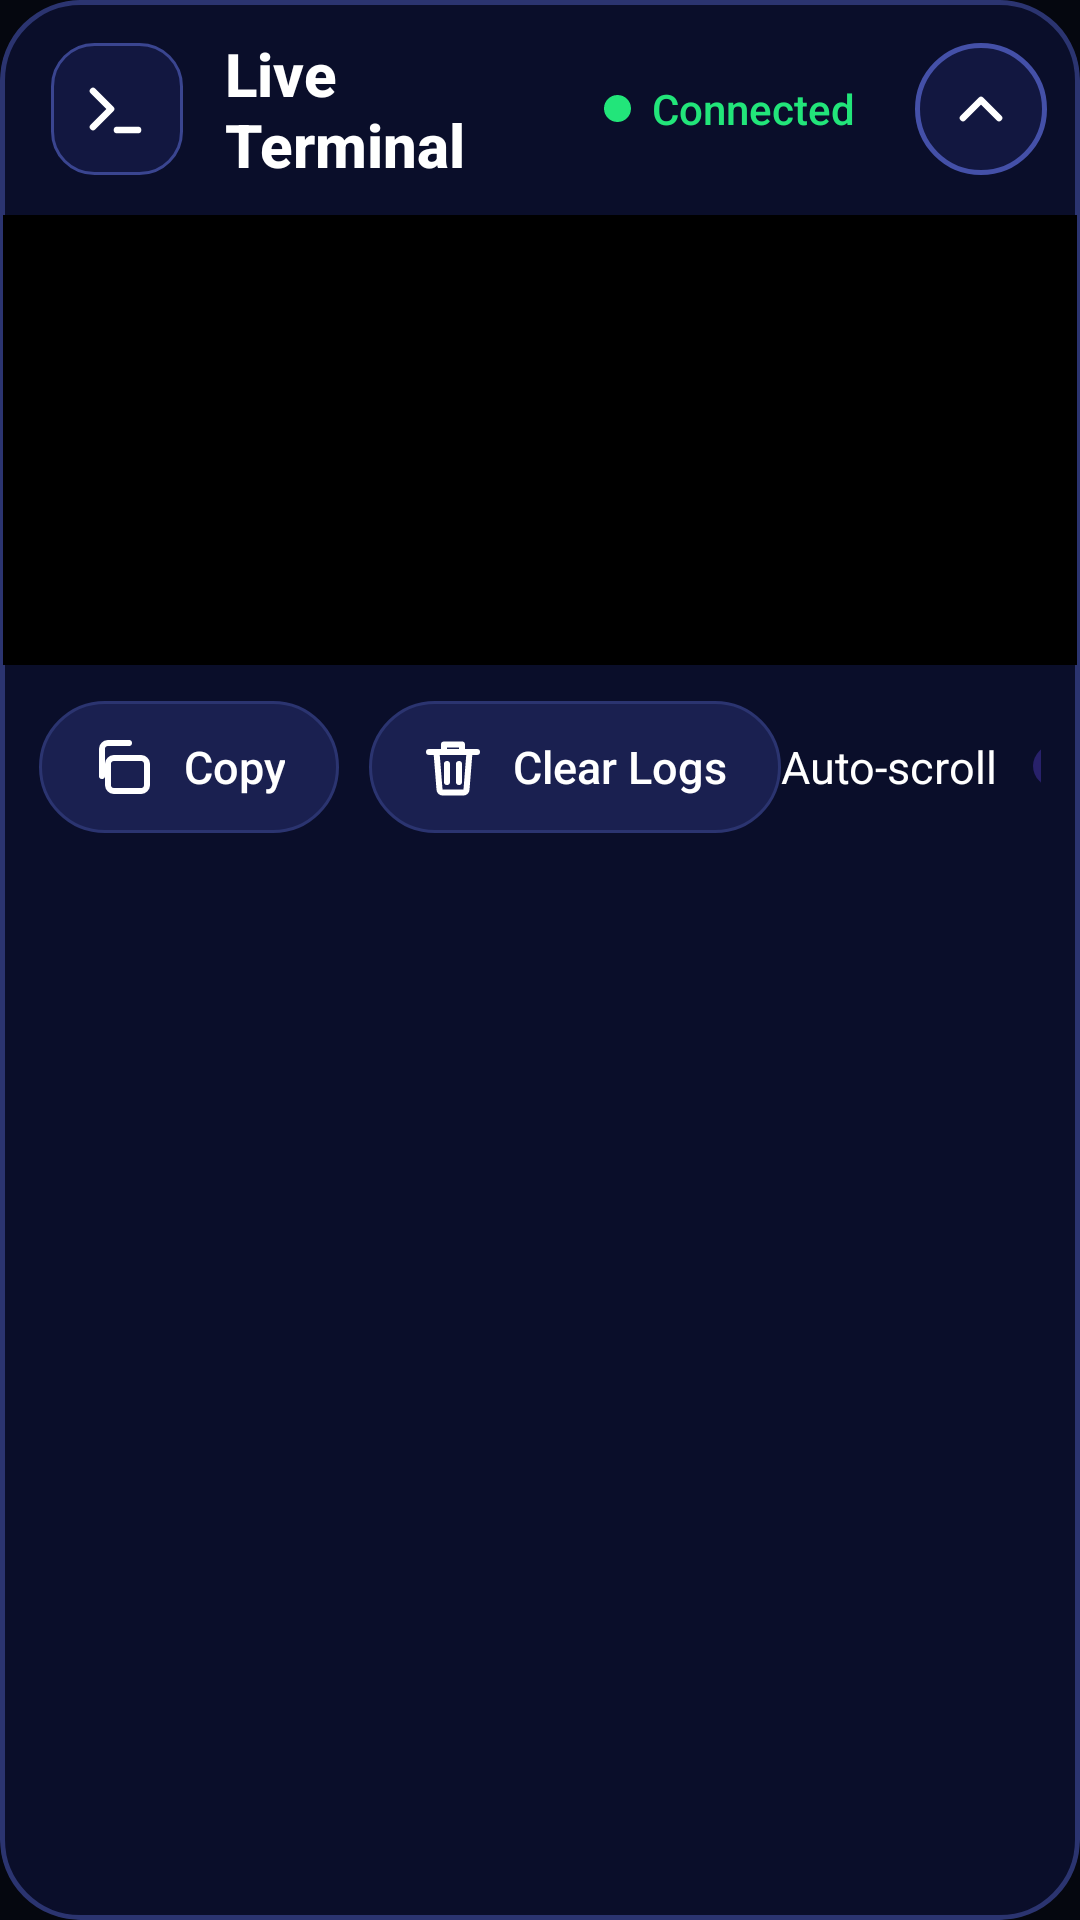

Named icons in this screenshot (1080px x 1920px) and their centers, (x=x, y=y):
prompt: (x=117, y=109)
